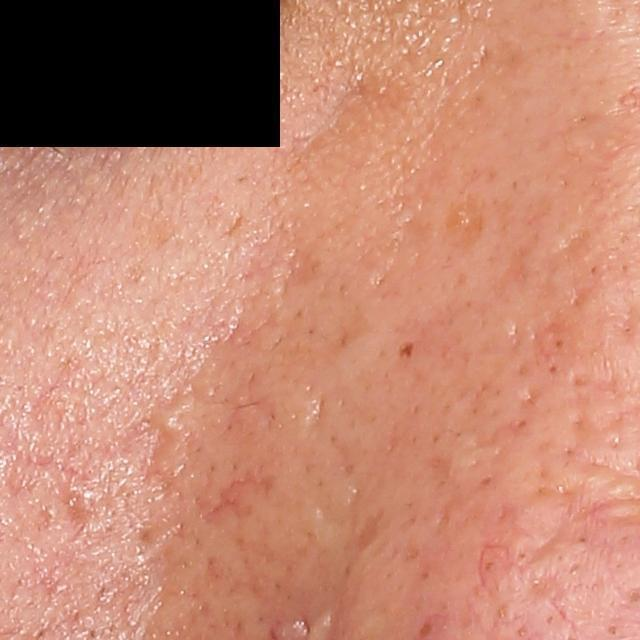atrophic_scar: (513, 469, 618, 575), (527, 303, 579, 371), (212, 468, 280, 511), (548, 220, 588, 258), (304, 396, 329, 432)
comedo: (156, 407, 183, 438)
